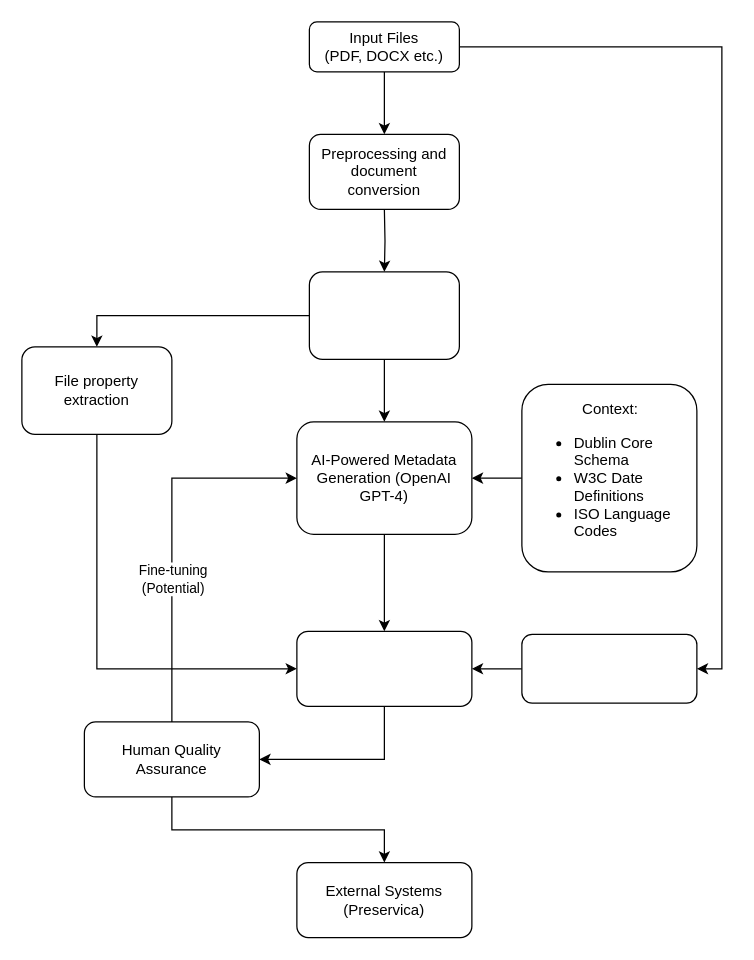
The diagram is 754 pixels wide and 960 high, and some of its shapes have lost their labels. Here are the shapes that lost their labels. From the top down, the centre of each, then its label:
At (x=383, y=315): "Document extraction (IBM Docling)".
At (x=384, y=668): "Structured Metadata (JSON)".
At (x=609, y=668): "External processing".
